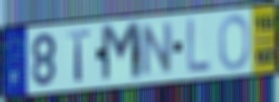8: (30, 31, 58, 88)
L: (185, 16, 212, 74)
M: (99, 20, 145, 86)
N: (140, 20, 175, 79)
O: (217, 13, 251, 72)
T: (66, 28, 92, 84)
